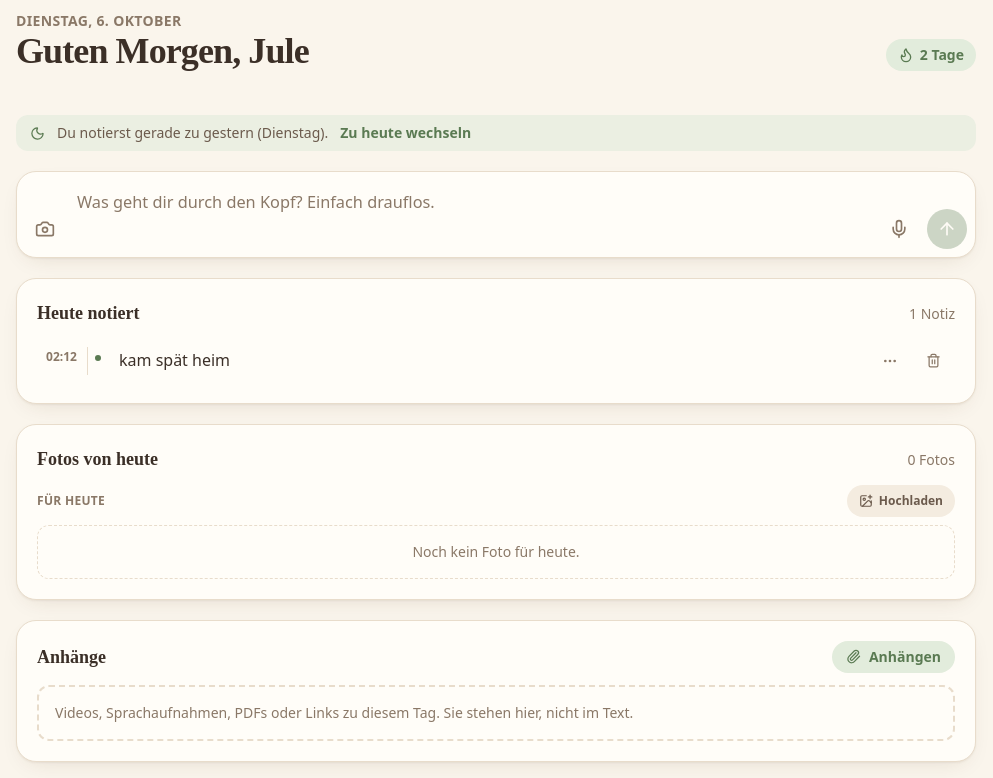
Test: moving a note › offers the next day for a note of an earlier day, and no menu on a locked day
The width and height of the screenshot is (993, 778).
Click the button named "Mehr zur Notiz".
click(890, 361)  # box [876,347,904,375]
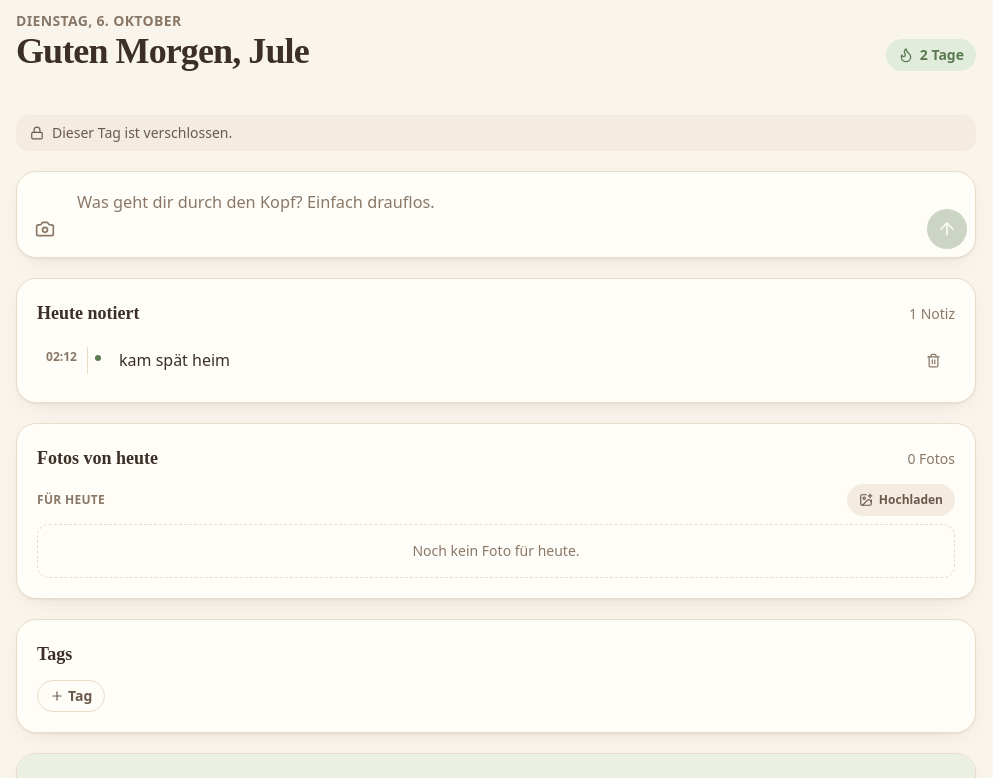
Check: the text "Dieser Tag ist verschlossen." is shown, box [16,115,976,151]
